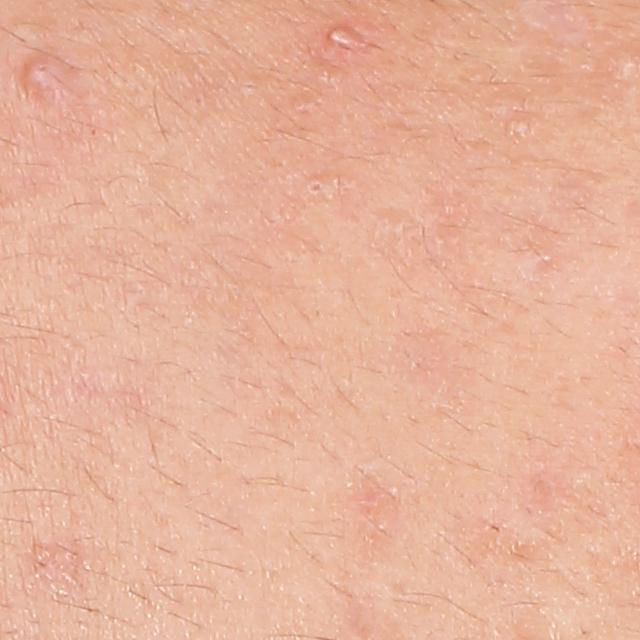comedo: (608, 53, 640, 82), (302, 172, 331, 199), (503, 116, 530, 141)
pustule: (327, 25, 354, 48)
